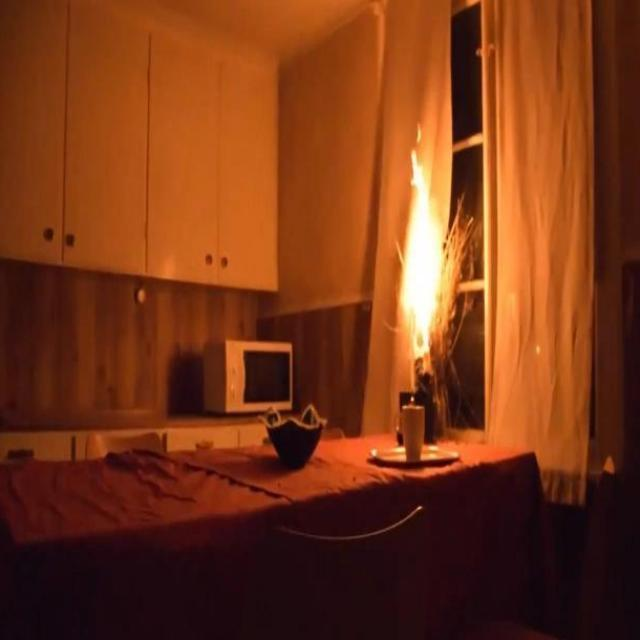smoke: (394, 144, 453, 372)
